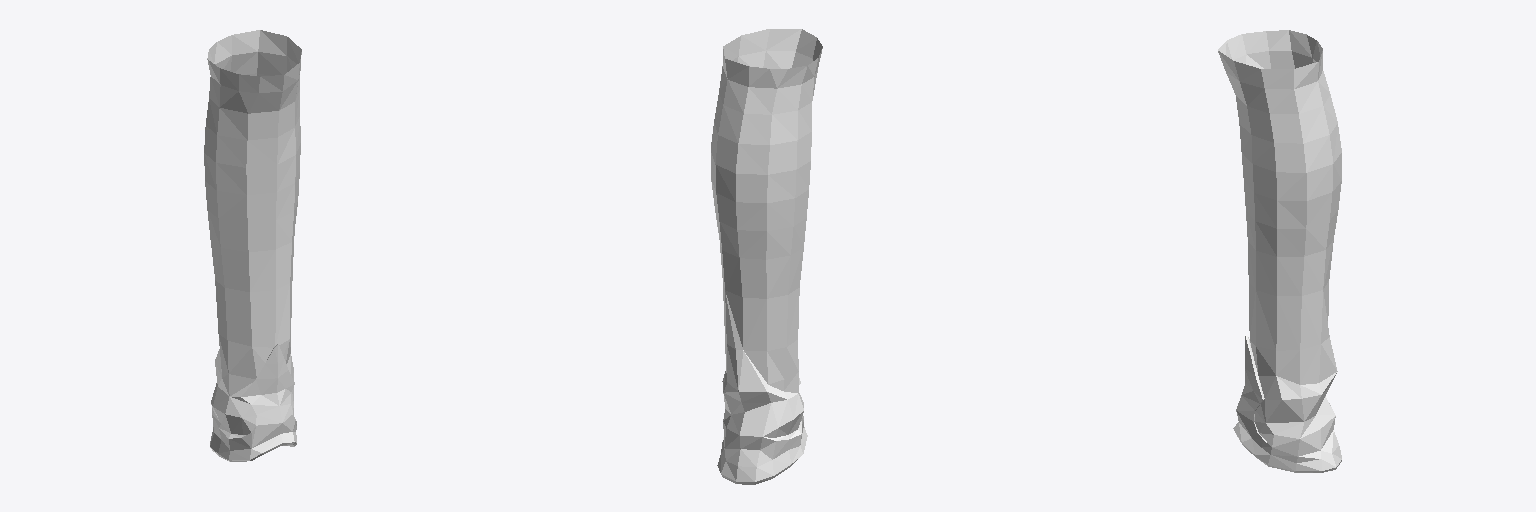
File: Blade_PantorrillaIzq.obj
The picture shows the model from 3 angles: view 1: azimuth 30°, elevation 25°; view 2: azimuth 150°, elevation 25°; view 3: azimuth 270°, elevation 25°; orthographic projection.
Visible parts, largest first — view 1: Pantorrilla_Izq; view 2: Pantorrilla_Izq; view 3: Pantorrilla_Izq.
Boxes of the visible parts, x1,y1,x2,y2 form: Pantorrilla_Izq: [204, 30, 301, 461]; Pantorrilla_Izq: [711, 29, 822, 484]; Pantorrilla_Izq: [1218, 30, 1341, 472].
Size of the model in its own units: 0.6064 by 2.7 by 0.7426.